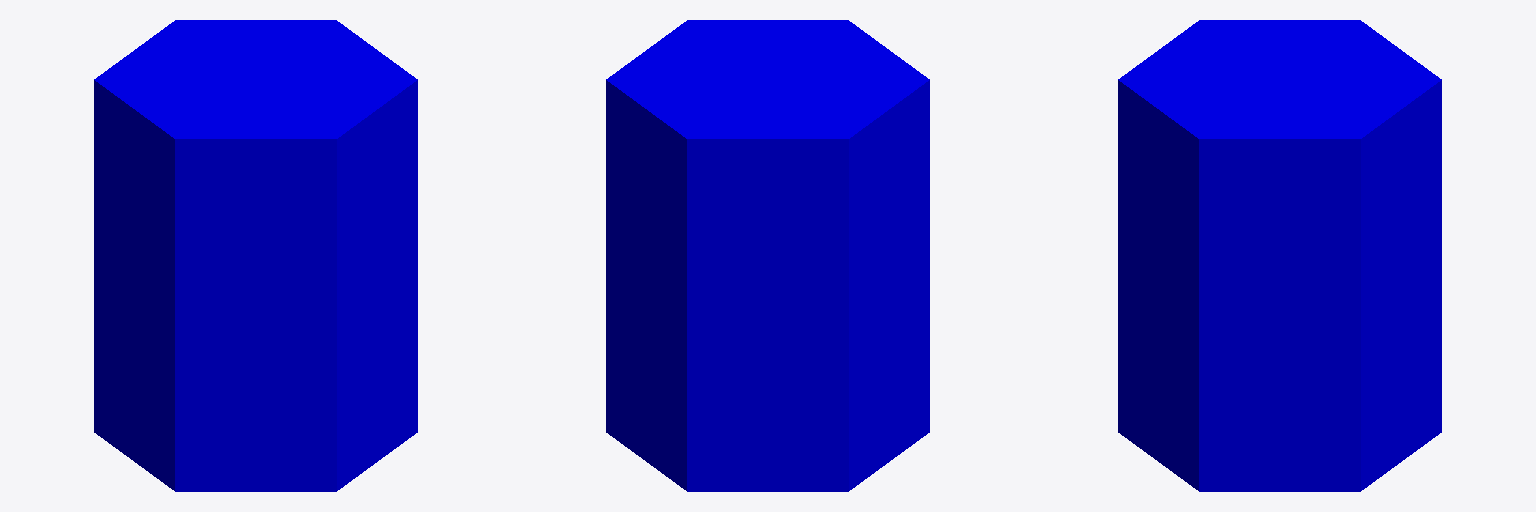
URDF robot description (building):
<?xml version="1.0" ?>

<robot name="building">

  <link name="base_link"> 

    <inertial>
      <origin rpy="0 0 0" xyz="0 0 0"/>
      <mass value="0.3"/>
      <inertia ixx="0" ixy="0.0" ixz="0.0" iyy="0" iyz="0.0" izz="0"/>
    </inertial>

    <visual>
      <origin rpy="0 0 0" xyz="0 0 0"/>
      <geometry>
        <mesh filename="./hexa_50_120.obj" scale="1. 1. 1."/>
      </geometry> 
      <material name="blue">
        <color rgba="0. 0. 1. 0.7"/>
      </material> 
    </visual>

    <collision>
      <origin rpy="0 0 0" xyz="0 0 0"/>
      <geometry>
        <mesh filename="./hexa_50_120.obj" scale="1. 1. 1."/>
      </geometry>
    </collision>  

  </link>

</robot>

--- What the picture shows (computed from the rendered views, not written in the file) ---
Views: 3 orthographic renders of the robot side by side, from view 1: azimuth 30°, elevation 25°; view 2: azimuth 150°, elevation 25°; view 3: azimuth 270°, elevation 25°.
Robot: building — 1 links, 0 joints (none); root link base_link; default pose: all joints at 0.
Visible links, largest first — view 1: base_link; view 2: base_link; view 3: base_link.
Link boxes in pixels (box(x1,y1,x2,y2)): base_link: box(94, 20, 417, 491); base_link: box(606, 20, 929, 491); base_link: box(1118, 20, 1441, 491).
Size in the robot's own frame: 0.866 by 1 by 1.2 metres.
1 mesh visuals loaded from 1 distinct referenced files (1 OBJ).
